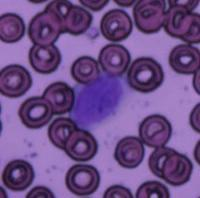L: (70, 70, 130, 128)
